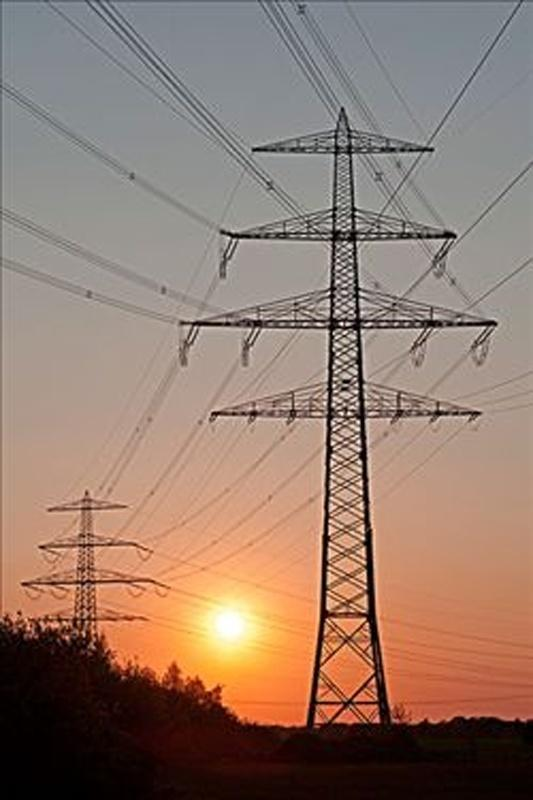power_tower: (175, 107, 499, 730), (19, 488, 171, 642)
